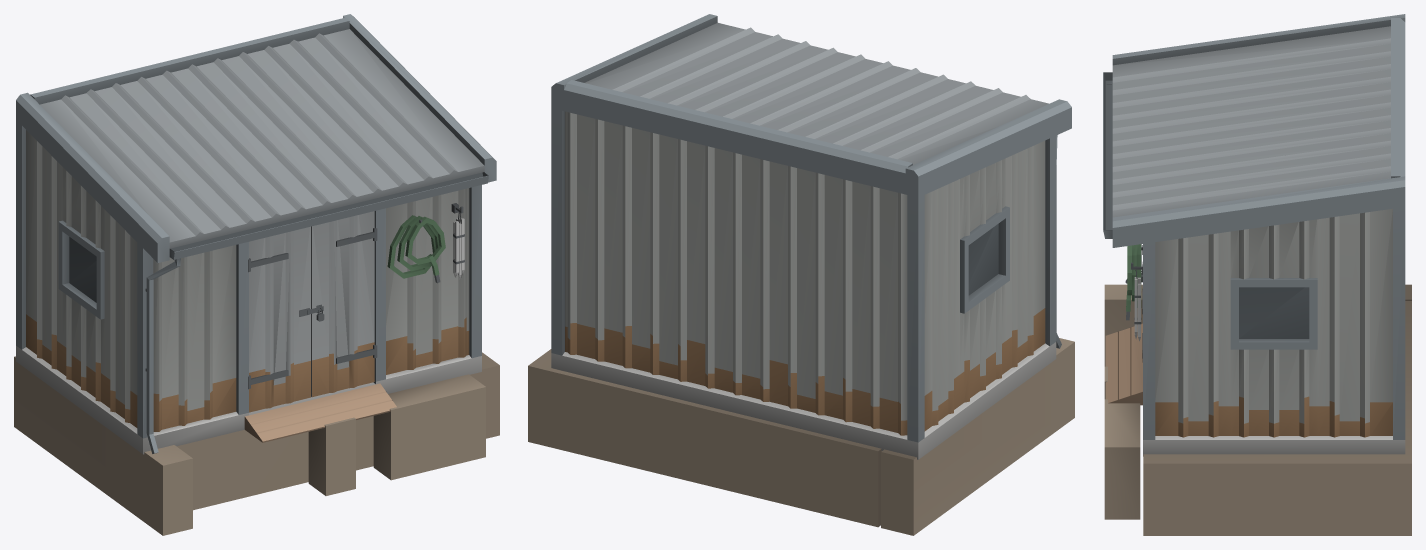
Rendered from store.glb.
3 views of the same model, side by side, from view 1: azimuth 30°, elevation 25°; view 2: azimuth 150°, elevation 25°; view 3: azimuth 270°, elevation 25° (orthographic). The views are drawn at different scales.
Parts seen in each view (by area): view 1: store; view 2: store; view 3: store.
Part boxes in pixels (x1,y1,x2,y2): store: (14,14,499,535); store: (528,14,1074,535); store: (1103,14,1411,535).
Bounding box in the file's own units: 5.48 × 4.9 × 3.98.
